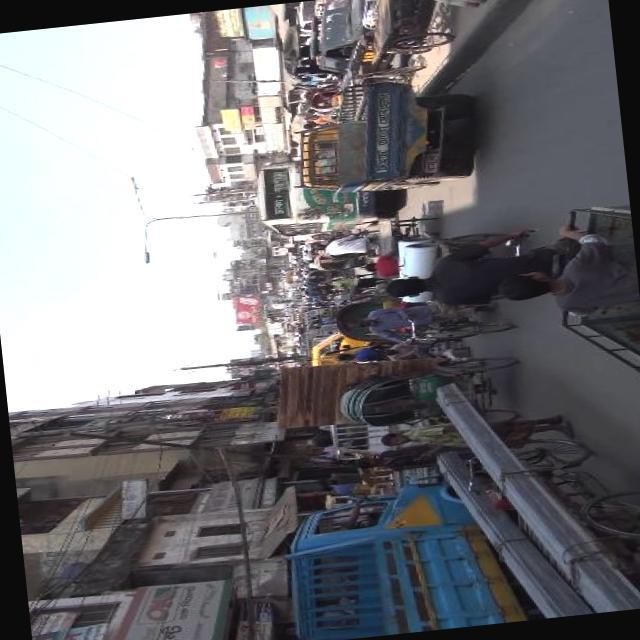bus: (251, 151, 393, 244)
motorcycle: (334, 351, 526, 438), (328, 281, 522, 353), (302, 82, 343, 112), (303, 266, 348, 286)
truck: (274, 468, 551, 640), (283, 68, 492, 204)
